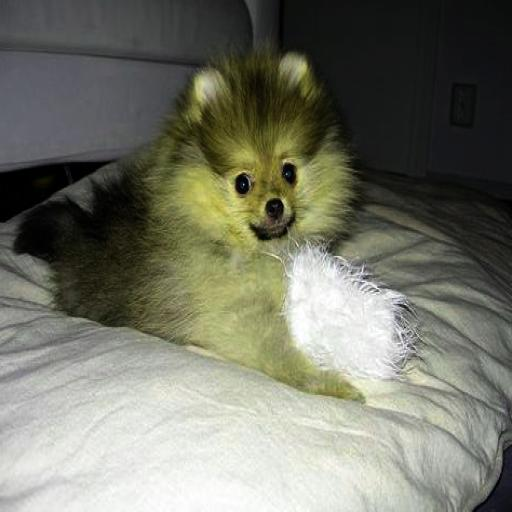dog_face: (192, 62, 334, 245)
